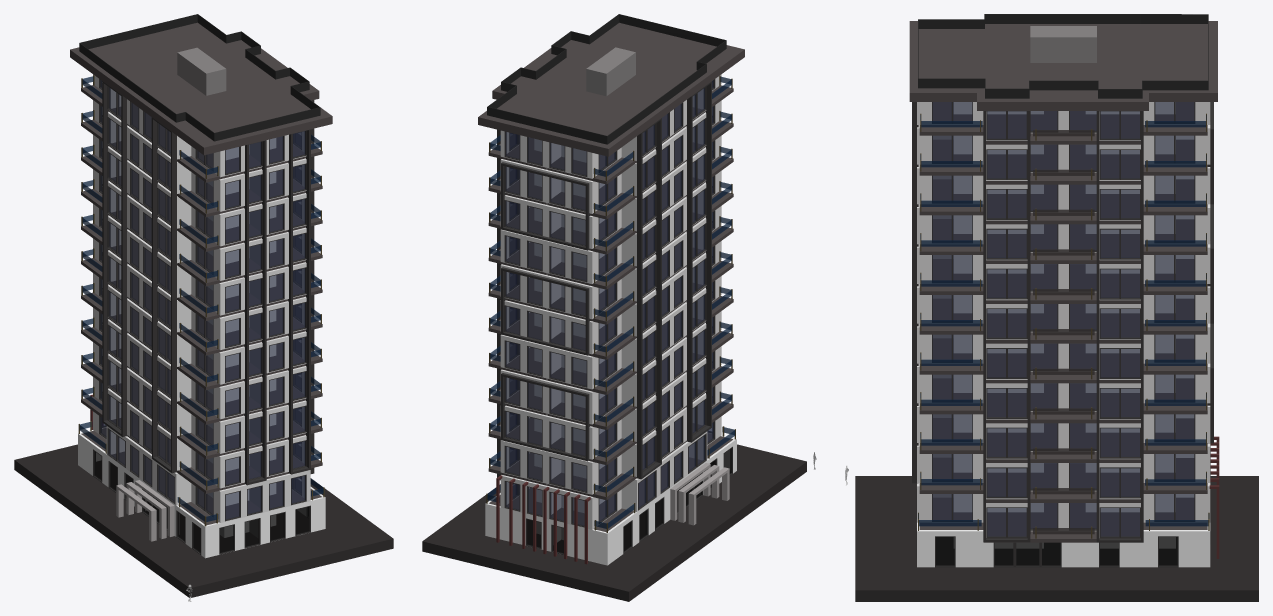
The model's file is residential_complex_modern_apartment_building.glb.
3 views of the same model, side by side, from view 1: azimuth 30°, elevation 25°; view 2: azimuth 150°, elevation 25°; view 3: azimuth 270°, elevation 25° (orthographic). The views are drawn at different scales.
Parts seen in each view (by area): view 1: Object_19, Object_20, Object_26, Object_16, Object_10, Object_27, Object_21, Object_11, Object_15, Object_24, Object_17, Object_18 (+4 smaller); view 2: Object_19, Object_26, Object_20, Object_16, Object_10, Object_27, Object_21, Object_11, Object_17, Object_15, Object_14, Object_18 (+6 smaller); view 3: Object_19, Object_20, Object_26, Object_10, Object_27, Object_16, Object_21, Object_11, Object_14, Object_15, Object_23, Object_9 (+6 smaller).
Part boxes in pixels (<box>): Object_19: <box>70,22,332,525</box>; Object_20: <box>100,80,304,519</box>; Object_26: <box>93,74,310,522</box>; Object_16: <box>99,81,314,521</box>; Object_10: <box>14,444,393,597</box>; Object_27: <box>78,138,325,558</box>; Object_21: <box>79,76,323,521</box>; Object_11: <box>79,14,320,141</box>; Object_15: <box>99,104,301,495</box>; Object_24: <box>116,142,260,541</box>; Object_17: <box>93,116,310,554</box>; Object_18: <box>130,202,306,554</box>; Object_19: <box>478,22,744,532</box>; Object_26: <box>500,74,721,529</box>; Object_20: <box>506,80,713,525</box>; Object_16: <box>497,81,715,527</box>; Object_10: <box>422,444,806,601</box>; Object_27: <box>485,139,736,565</box>; Object_21: <box>487,76,735,528</box>; Object_11: <box>487,14,726,144</box>; Object_17: <box>504,135,717,554</box>; Object_15: <box>509,117,715,488</box>; Object_14: <box>509,79,715,523</box>; Object_18: <box>504,187,732,493</box>; Object_19: <box>909,21,1217,542</box>; Object_20: <box>933,102,1194,536</box>; Object_26: <box>917,102,1210,537</box>; Object_10: <box>855,476,1258,601</box>; Object_27: <box>917,102,1210,567</box>; Object_16: <box>912,102,1213,567</box>; Object_21: <box>918,115,1209,526</box>; Object_11: <box>918,14,1208,98</box>; Object_14: <box>932,102,1195,567</box>; Object_15: <box>932,111,1195,521</box>; Object_23: <box>1033,130,1094,534</box>; Object_9: <box>936,537,1177,565</box>.
Size of the model in its own units: 826 by 1674 by 1222.
